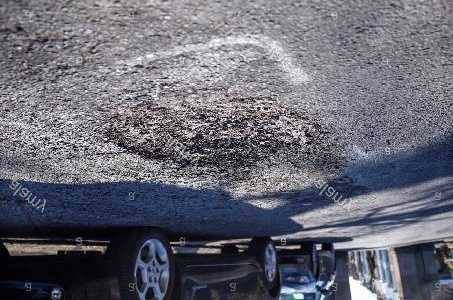pothole: (97, 87, 348, 175)
